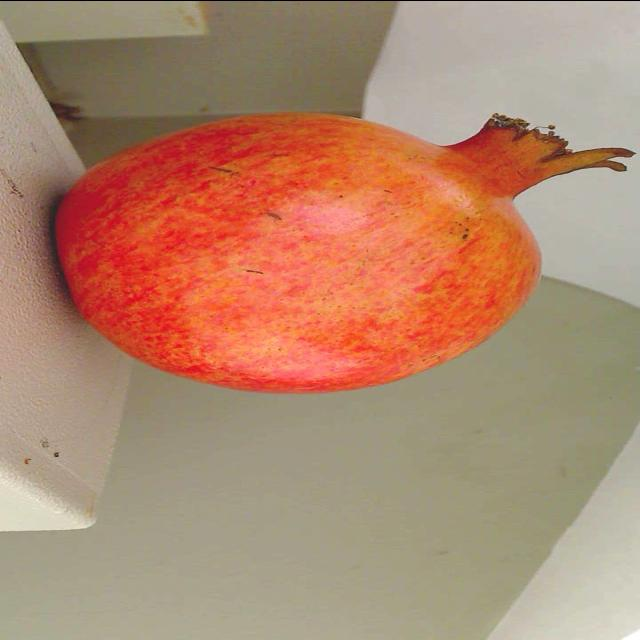pomegranate: (32, 94, 640, 392)
